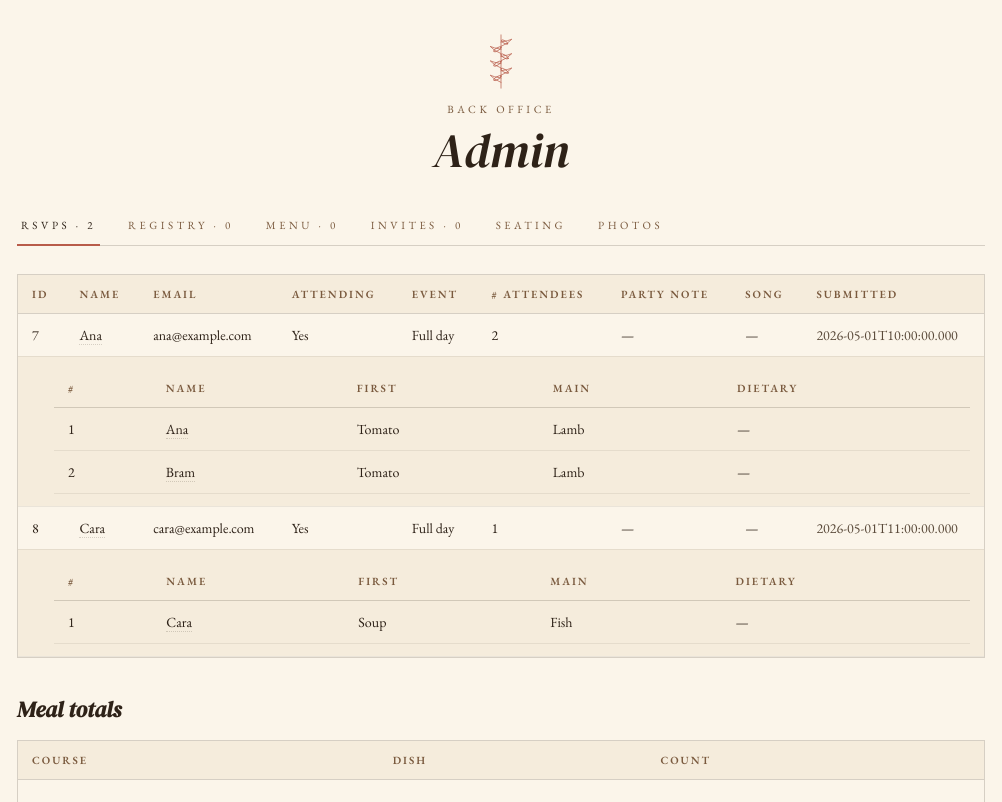
AdminDashboard — renaming guests › a failed rename reverts the cell and shows a toast
Click the button with aria-label "Lead name: Ana" at (91, 335), box [79,326,102,345]
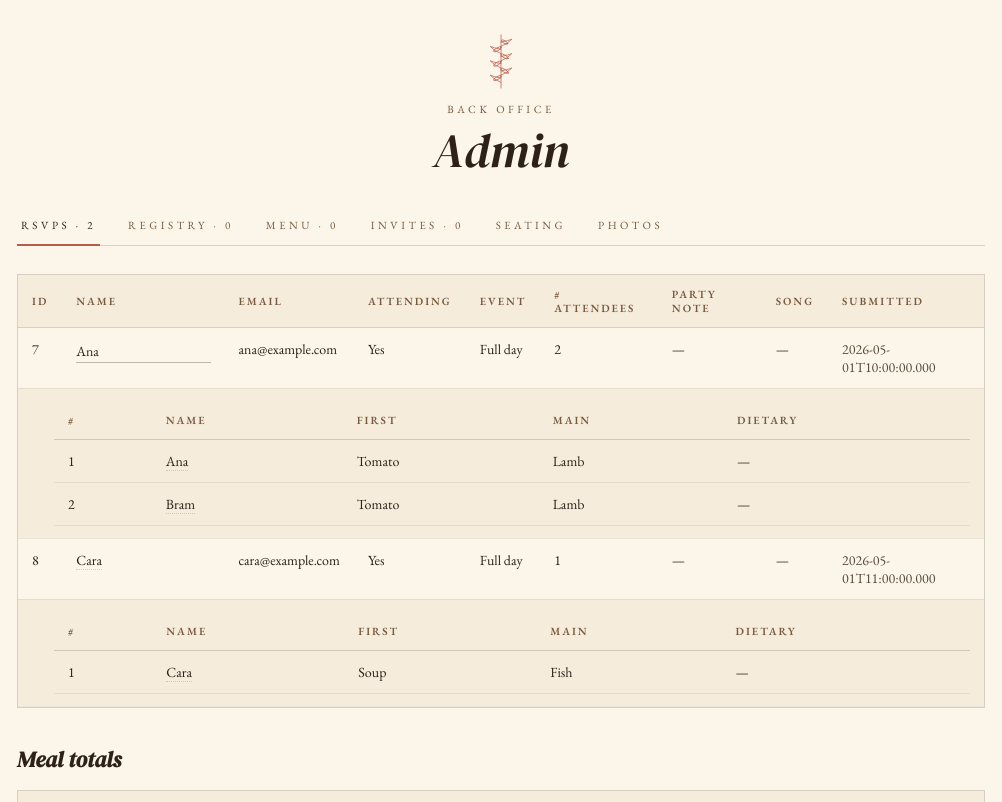
Replace the text in the field named "Lead name: Ana" with "Anna Peeters" at (143, 351), box [76,340,211,363]
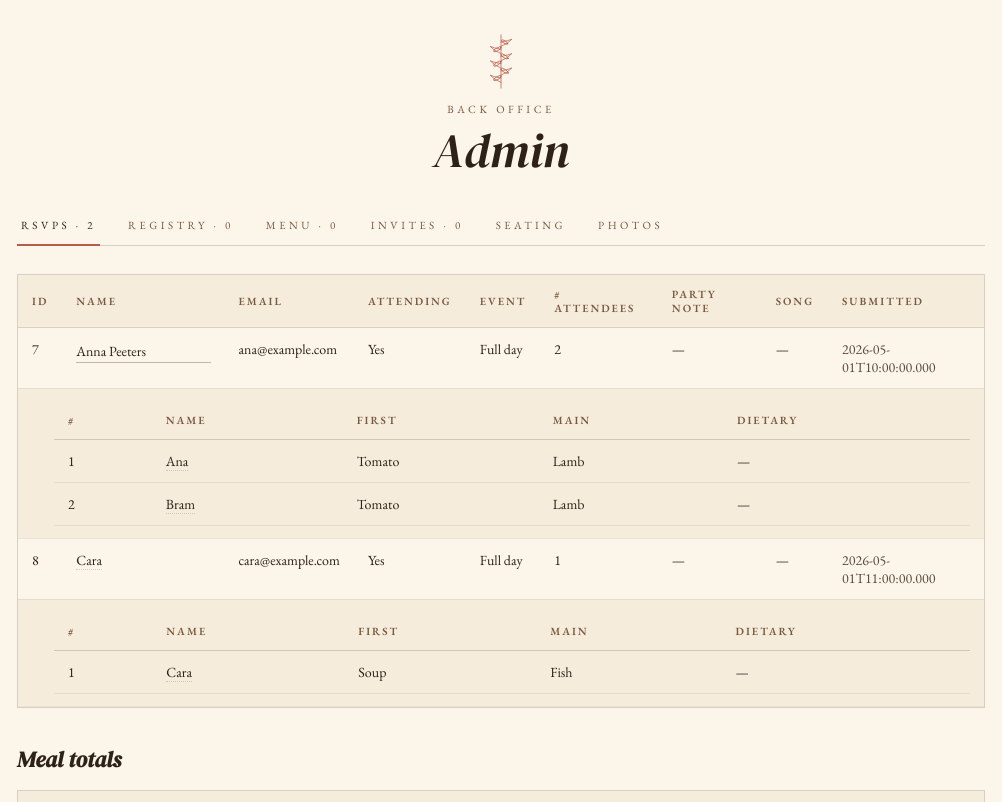
Press Enter in the field named "Lead name: Ana", box [76,340,211,363]
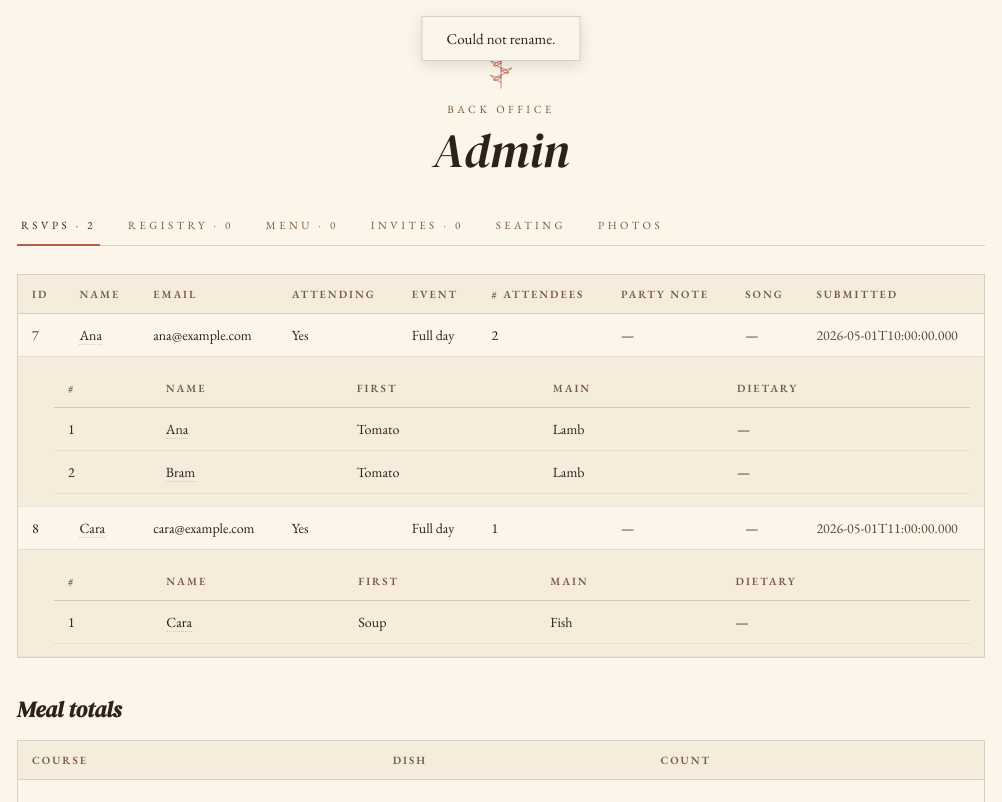
Expected: the text "Anna Peeters" is not shown
Now the text "Could not rename." is shown, box [422,16,580,61]
Now the number of buttons "Ana" is 2, box [79,326,102,345]; [166,420,188,439]
